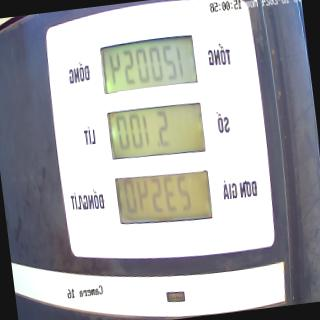screen: (97, 31, 216, 232)
